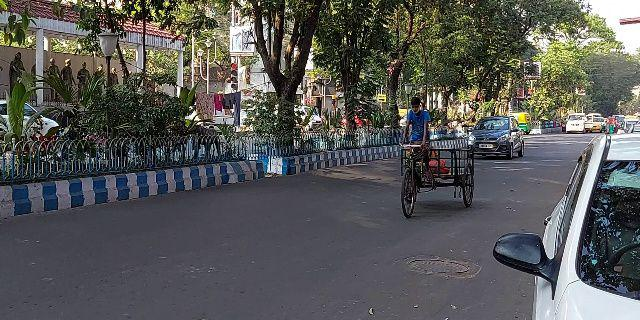Car: (489, 133, 640, 320), (468, 111, 525, 166)
Van: (393, 93, 481, 225)
